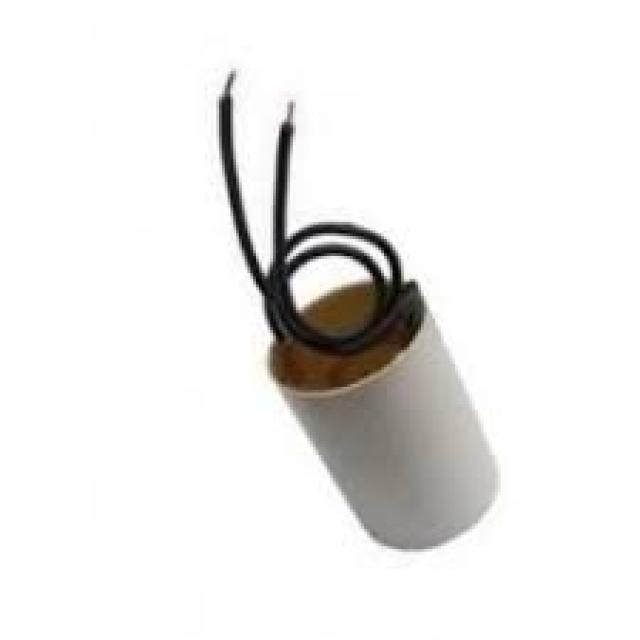Capacitor: (225, 85, 503, 555)
